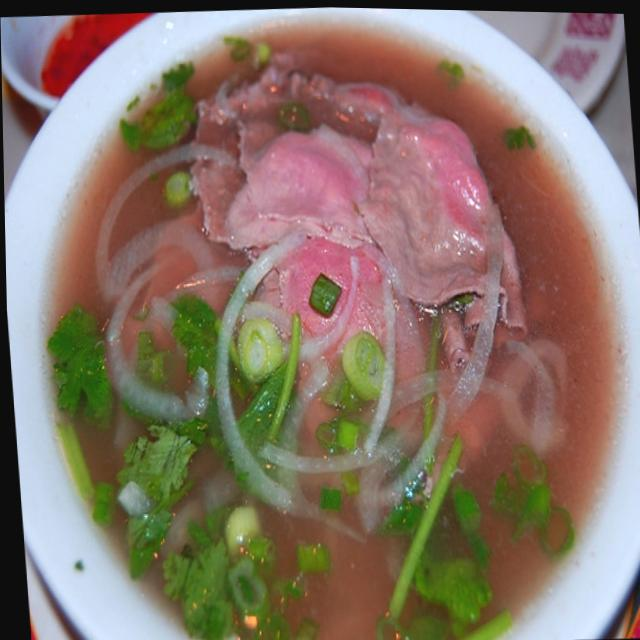面条主食: (2, 2, 640, 640)
